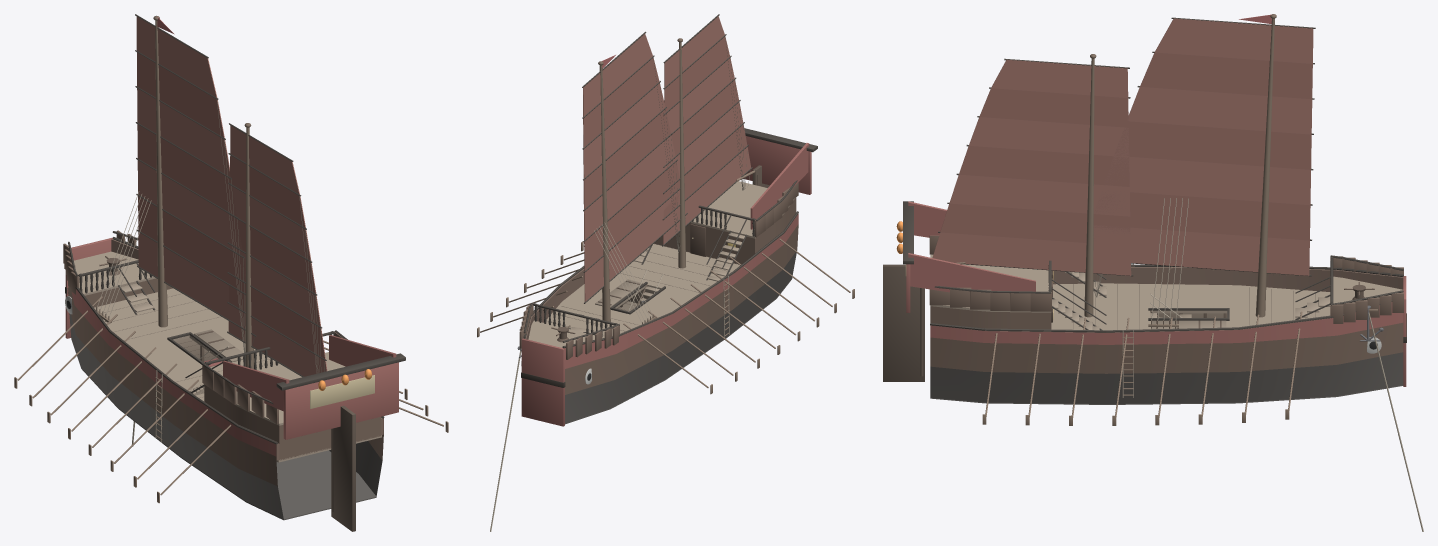
The model's file is ship_junk.gltf.
3 renders of one model, left to right at view 1: azimuth 30°, elevation 25°; view 2: azimuth 150°, elevation 25°; view 3: azimuth 270°, elevation 25°, orthographic. The views are drawn at different scales.
Parts seen in each view (by area): view 1: Body, Sail2, Sail, OarsL, Hold; view 2: Body, Sail2, Sail, OarsL, OarsR, Hold; view 3: Body, Sail2, Sail, OarsR.
Part boxes in pixels (x1,y1,x2,y2): Body: [63, 15, 405, 531]; Sail2: [135, 14, 256, 336]; Sail: [227, 123, 327, 377]; OarsL: [14, 296, 231, 503]; Hold: [175, 338, 228, 367]; Body: [519, 37, 817, 426]; Sail2: [582, 31, 687, 303]; Sail: [662, 14, 752, 246]; OarsL: [623, 238, 854, 394]; OarsR: [477, 241, 584, 337]; Hold: [617, 270, 663, 311]; Body: [883, 14, 1406, 404]; Sail2: [1085, 17, 1315, 276]; Sail: [932, 58, 1133, 276]; OarsR: [982, 311, 1302, 425].
Size of the model in its own units: 15.33 by 24.71 by 24.58.
